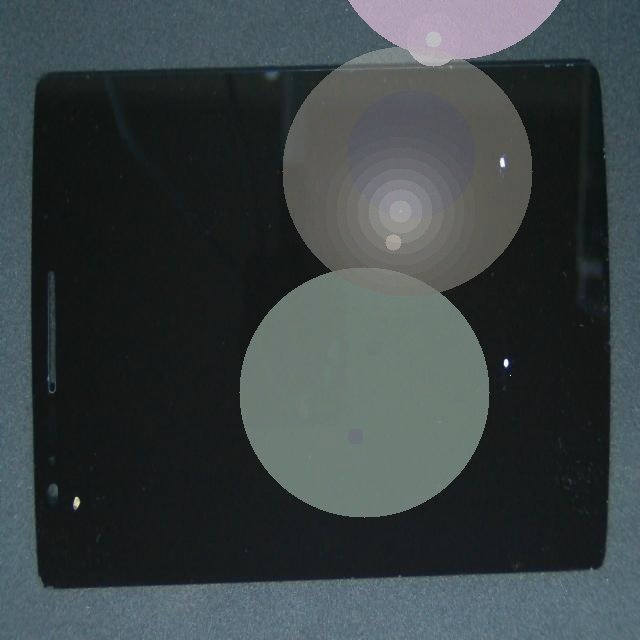stain: (239, 191, 640, 574), (245, 102, 640, 307), (29, 271, 88, 640)
